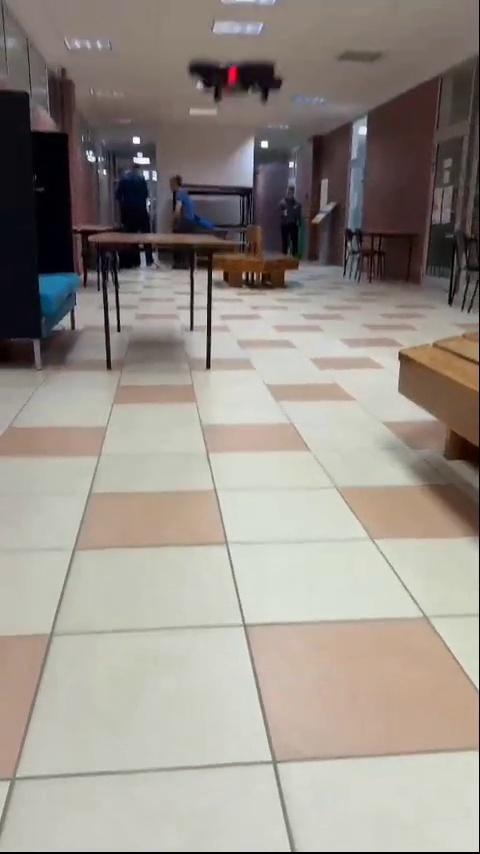drone: (191, 57, 277, 108)
no vest: (165, 174, 221, 246), (116, 151, 164, 234), (274, 184, 307, 258)
